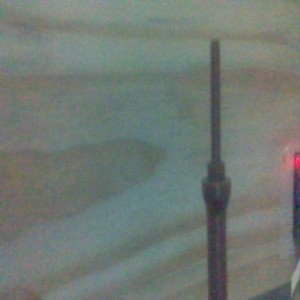obeng: (200, 39, 233, 300)
